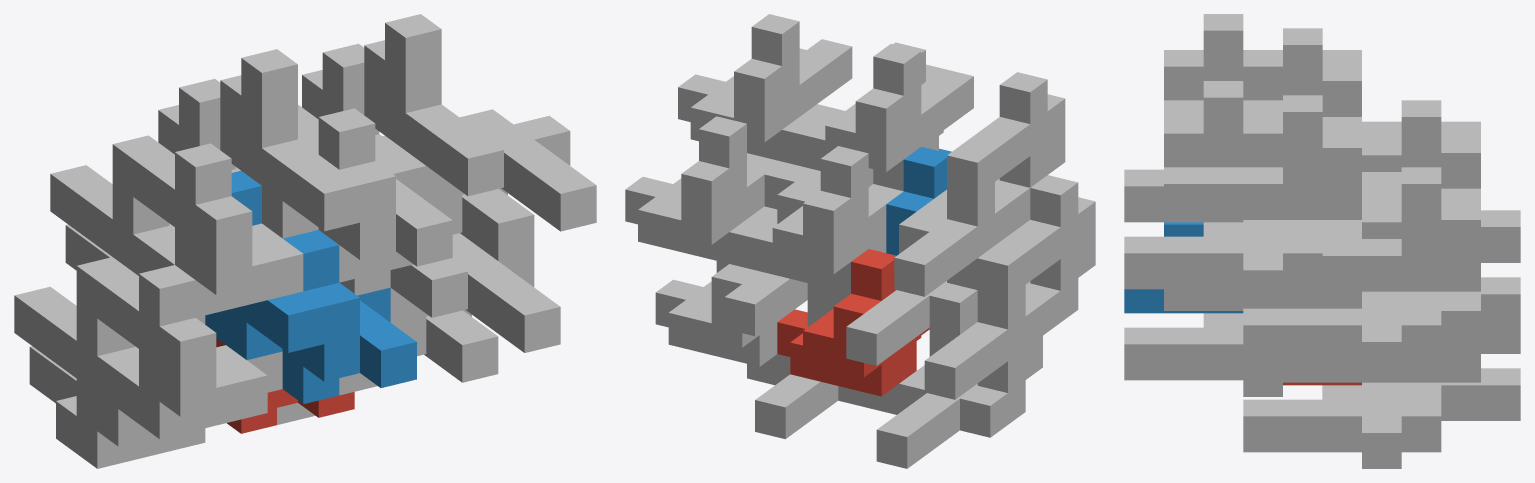
The model's file is tiling.obj.
3 renders of one model, left to right at view 1: azimuth 30°, elevation 25°; view 2: azimuth 150°, elevation 25°; view 3: azimuth 270°, elevation 25°, orthographic. The views are drawn at different scales.
Parts seen in each view (by area): view 1: copy_2_domain_2, copy_2_domain_4, copy_1_domain_8, copy_1_domain_4, copy_2_domain_1, copy_4_domain_8, copy_2_domain_8, copy_4_domain_6, copy_2_domain_6, copy_2_domain_3, copy_4_domain_4, copy_4_domain_2 (+15 smaller); view 2: copy_1_domain_4, copy_1_domain_8, copy_2_domain_2, copy_2_domain_1, copy_2_domain_4, copy_1_domain_3, copy_1_domain_7, copy_3_domain_1, copy_2_domain_3, copy_3_domain_3, copy_1_domain_1, copy_3_domain_5 (+17 smaller); view 3: copy_1_domain_8, copy_1_domain_7, copy_4_domain_5, copy_4_domain_7, copy_4_domain_8, copy_4_domain_6, copy_2_domain_8, copy_2_domain_4, copy_1_domain_4, copy_1_domain_5, copy_1_domain_3, copy_3_domain_5 (+12 smaller).
Boxes of the visible parts, bbox=[...] form: copy_2_domain_2: bbox=[76, 257, 216, 439]; copy_2_domain_4: bbox=[112, 135, 252, 317]; copy_1_domain_8: bbox=[364, 14, 503, 196]; copy_1_domain_4: bbox=[220, 49, 359, 231]; copy_2_domain_1: bbox=[14, 286, 153, 468]; copy_4_domain_8: bbox=[426, 109, 596, 231]; copy_2_domain_8: bbox=[298, 105, 395, 282]; copy_4_domain_6: bbox=[390, 233, 560, 352]; copy_2_domain_6: bbox=[282, 230, 359, 404]; copy_2_domain_3: bbox=[50, 165, 174, 347]; copy_4_domain_4: bbox=[262, 151, 452, 266]; copy_4_domain_2: bbox=[226, 287, 416, 387]; copy_1_domain_4: bbox=[855, 44, 973, 191]; copy_1_domain_8: bbox=[734, 14, 852, 161]; copy_2_domain_2: bbox=[977, 175, 1095, 322]; copy_2_domain_1: bbox=[924, 285, 1042, 424]; copy_2_domain_4: bbox=[947, 72, 1065, 194]; copy_1_domain_3: bbox=[803, 146, 903, 293]; copy_1_domain_7: bbox=[681, 116, 781, 263]; copy_3_domain_1: bbox=[868, 365, 1007, 468]; copy_2_domain_3: bbox=[894, 182, 1012, 296]; copy_3_domain_3: bbox=[838, 281, 977, 365]; copy_1_domain_1: bbox=[833, 249, 929, 396]; copy_3_domain_5: bbox=[747, 354, 868, 439]; copy_1_domain_8: bbox=[1164, 95, 1361, 219]; copy_1_domain_7: bbox=[1283, 167, 1480, 291]; copy_4_domain_5: bbox=[1243, 382, 1441, 468]; copy_4_domain_7: bbox=[1243, 291, 1441, 377]; copy_4_domain_8: bbox=[1124, 220, 1322, 305]; copy_4_domain_6: bbox=[1124, 327, 1322, 396]; copy_2_domain_8: bbox=[1164, 81, 1361, 167]; copy_2_domain_4: bbox=[1164, 14, 1361, 100]; copy_1_domain_4: bbox=[1164, 28, 1361, 116]; copy_1_domain_5: bbox=[1283, 294, 1480, 382]; copy_1_domain_3: bbox=[1362, 100, 1480, 188]; copy_3_domain_5: bbox=[1322, 368, 1520, 420].
Size of the model in its own units: 12 by 10 by 10.
